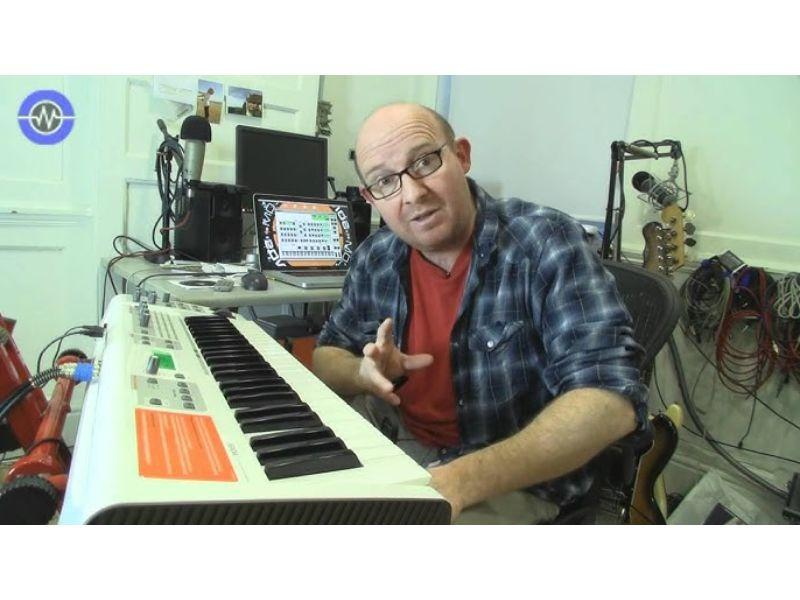synthesizer: (66, 288, 343, 515)
